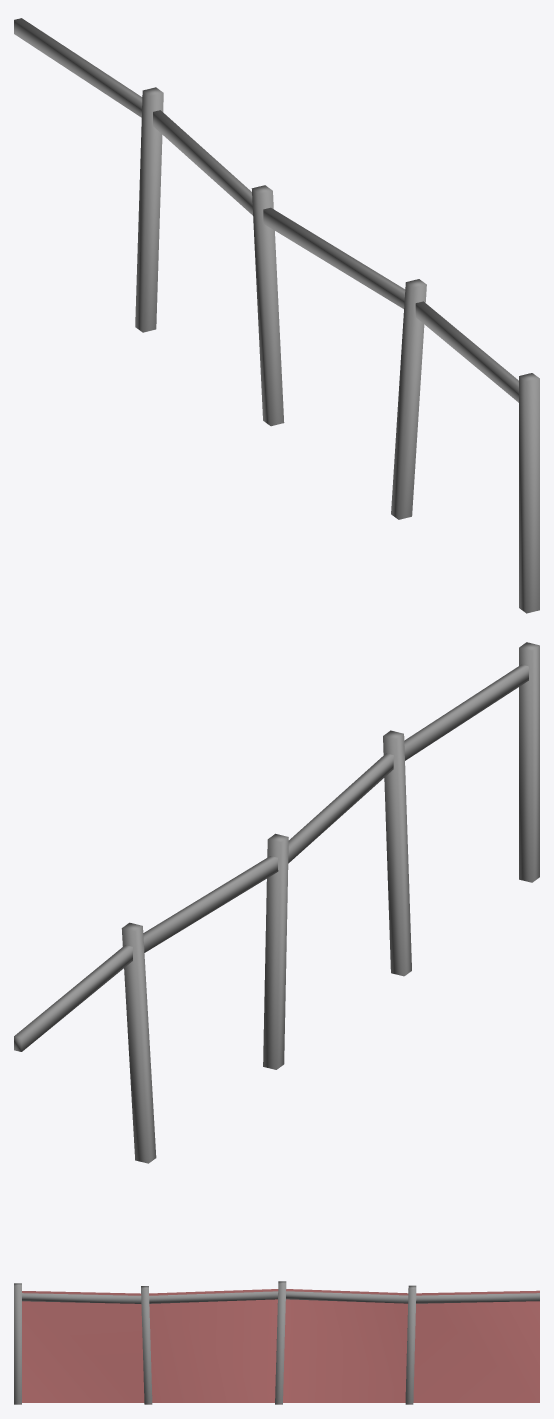
File: SM_fence_103a.gltf
The picture shows the model from 3 angles, top to bottom: view 1: azimuth 30°, elevation 25°; view 2: azimuth 150°, elevation 25°; view 3: azimuth 270°, elevation 25°; orthographic projection. The views are drawn at different scales.
Parts seen in each view (by area): view 1: SM_fence_103a; view 2: SM_fence_103a; view 3: SM_fence_103a.
Boxes of the visible parts, left/top/right/bottom form: SM_fence_103a: left=14, top=18, right=539, bottom=613; SM_fence_103a: left=14, top=642, right=539, bottom=1163; SM_fence_103a: left=14, top=1281, right=539, bottom=1404.
Size of the model in its own units: 0.148 by 1 by 4.03.
